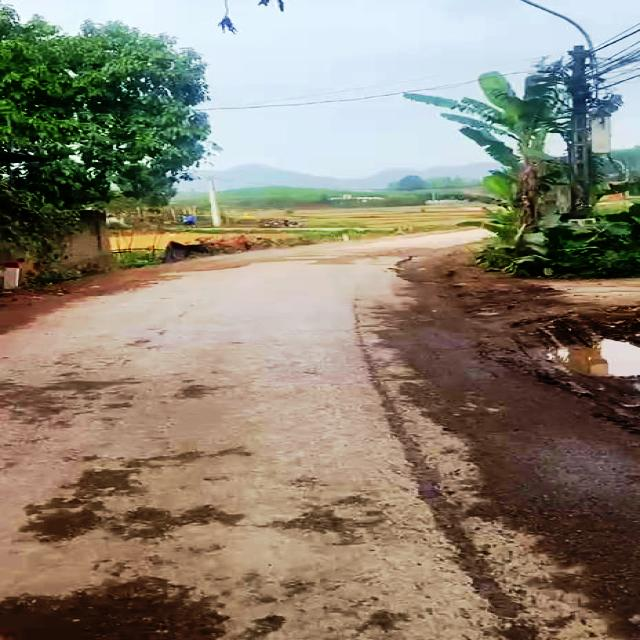pothole: (523, 332, 640, 392)
